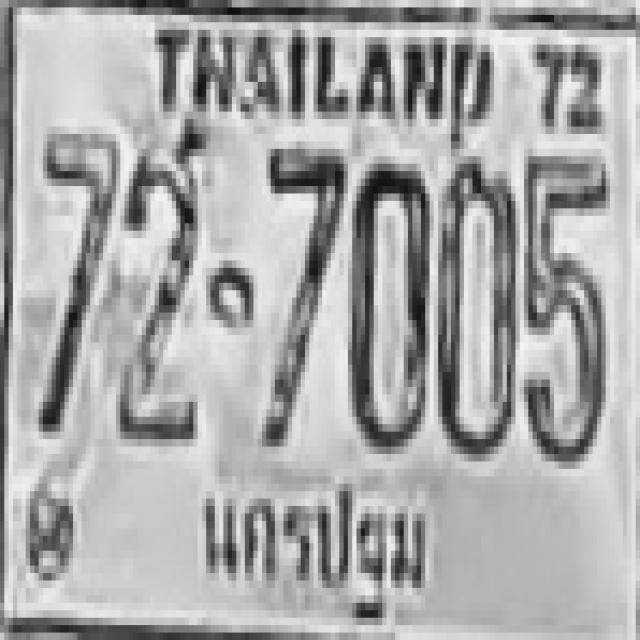0: (434, 153, 515, 450), (346, 156, 427, 446)
2: (116, 130, 198, 436)
5: (520, 149, 606, 461)
7: (37, 123, 118, 428), (262, 141, 344, 439)
NakhonPathom: (187, 472, 457, 634)
